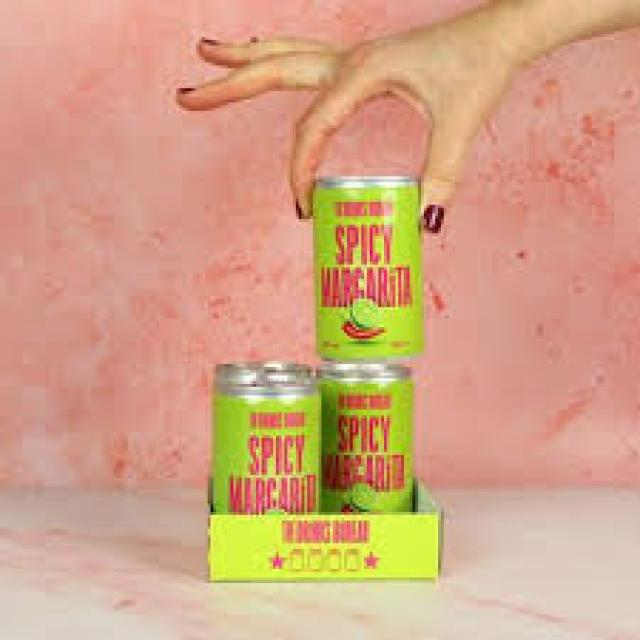Cans: (307, 171, 441, 361), (208, 358, 324, 518), (318, 358, 424, 520)
